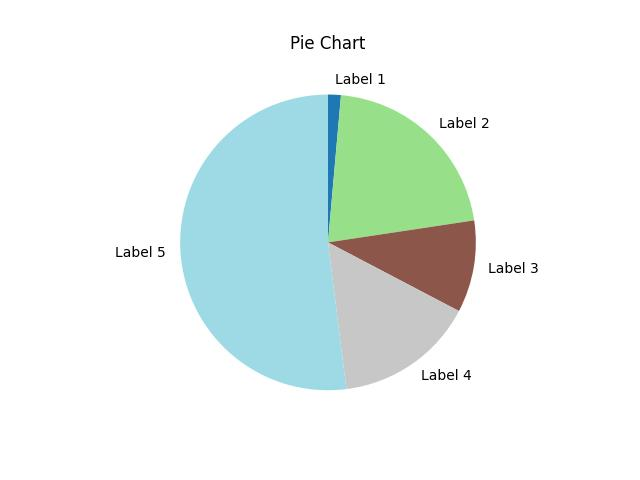sector: (181, 93, 350, 391), (328, 94, 475, 242), (329, 243, 461, 389), (329, 220, 479, 312), (327, 92, 343, 241)
